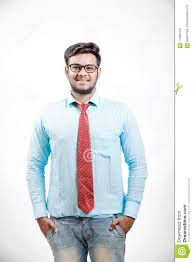Indian_Male: (63, 50, 103, 91)
